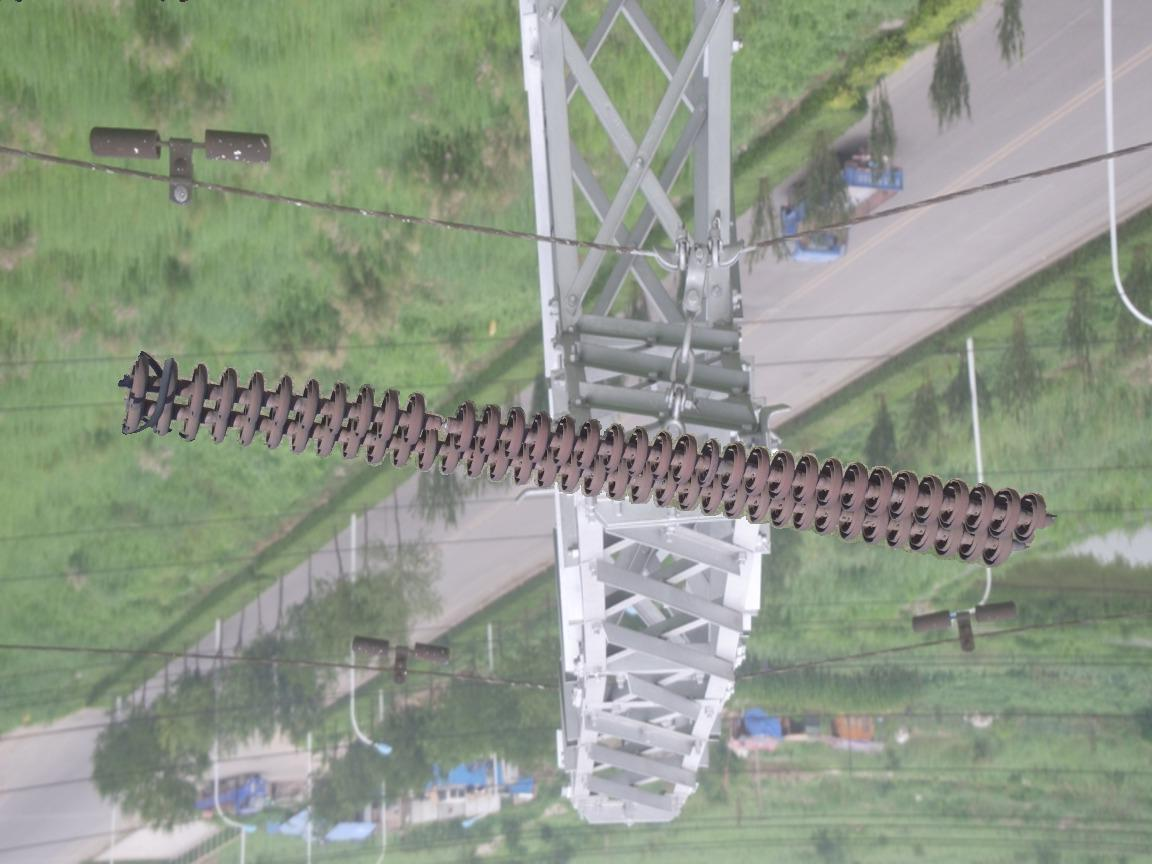insulator: (119, 352, 1056, 572)
insulator_stringdrop: (396, 388, 478, 455)
